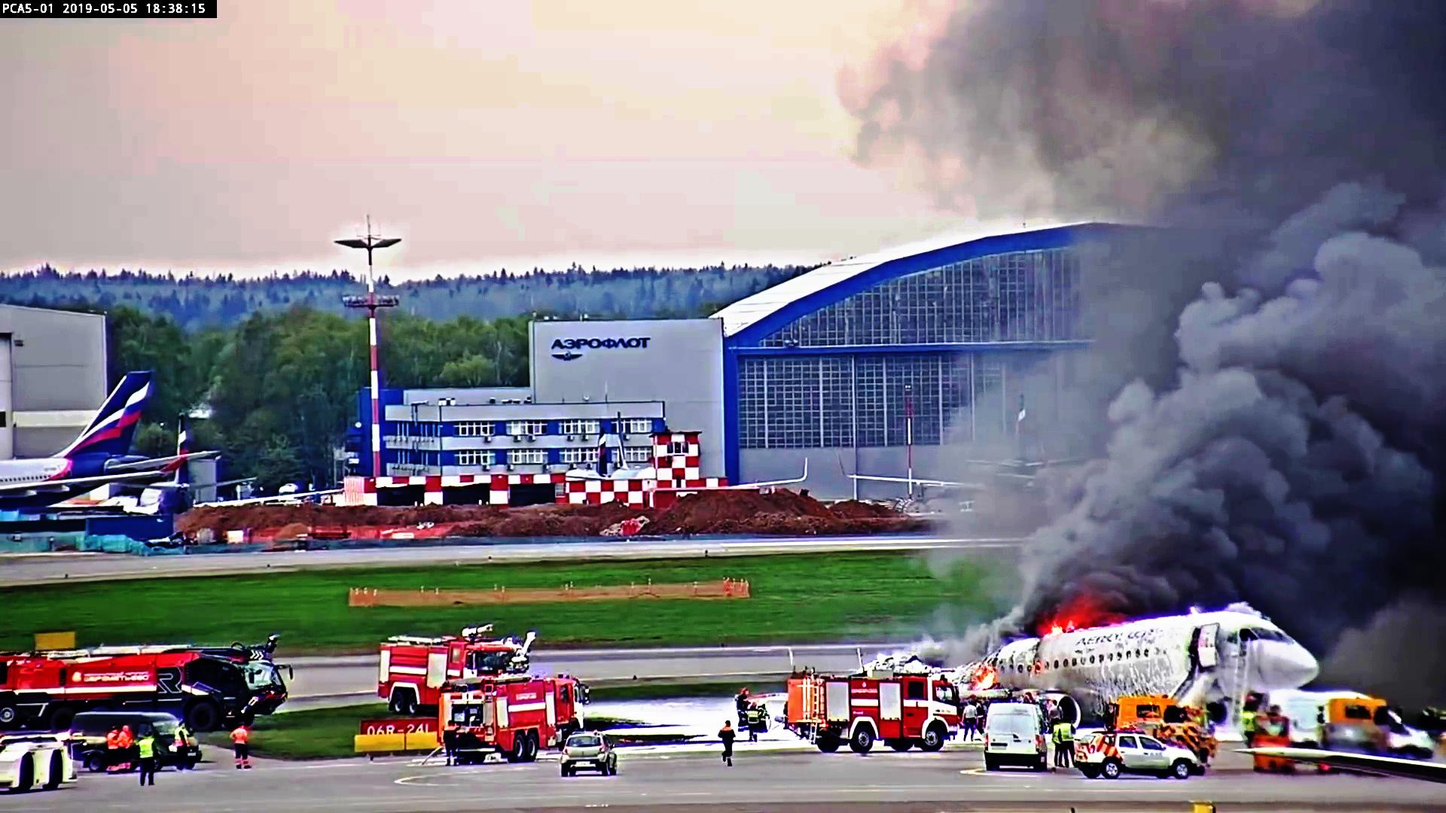smoke: (1059, 338, 1446, 604), (1198, 211, 1446, 526)
